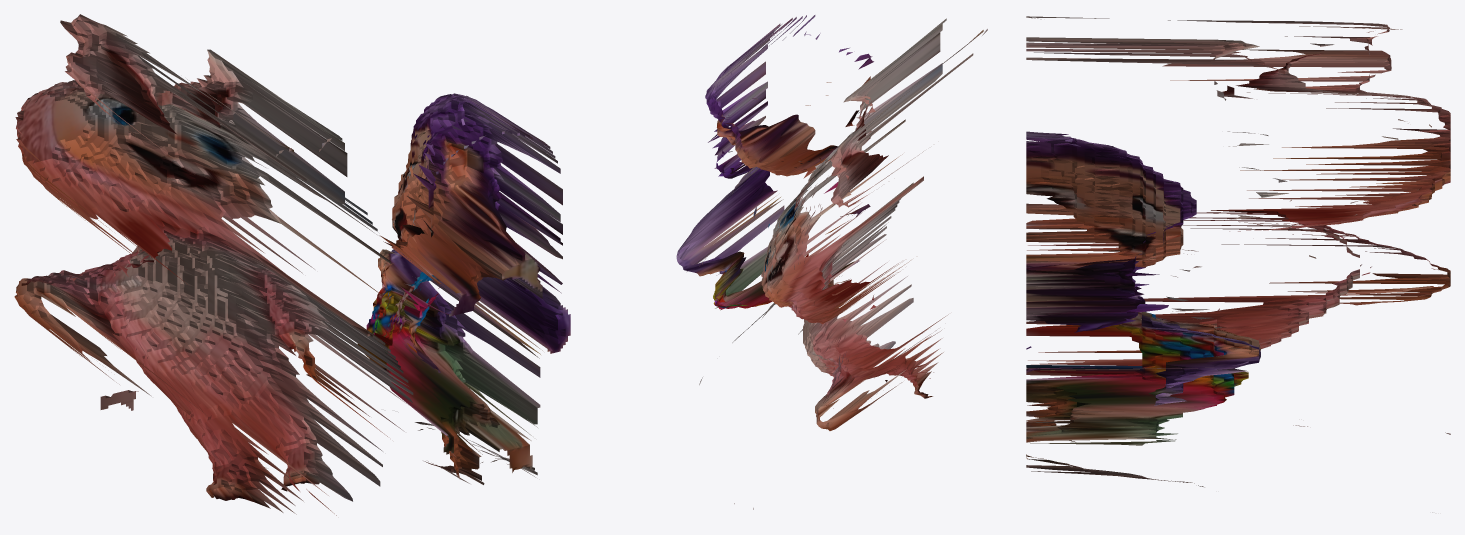
File: frame_00078.glb
3 views of the same model, side by side, from view 1: azimuth 30°, elevation 25°; view 2: azimuth 150°, elevation 25°; view 3: azimuth 270°, elevation 25° (orthographic). The views are drawn at different scales.
Visible parts, largest first — view 1: geometry_0; view 2: geometry_0; view 3: geometry_0.
Boxes of the visible parts, <box> form: geometry_0: <box>14,14,570,515</box>; geometry_0: <box>676,15,987,509</box>; geometry_0: <box>1026,16,1450,512</box>.
Size of the model in its own units: 0.1258 by 0.1696 by 0.16.
1 material, 1 textured.
